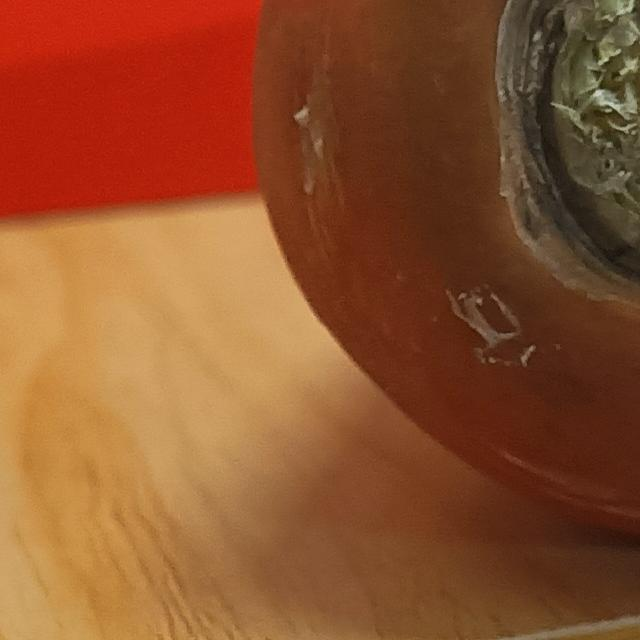carrot: (245, 1, 640, 558)
